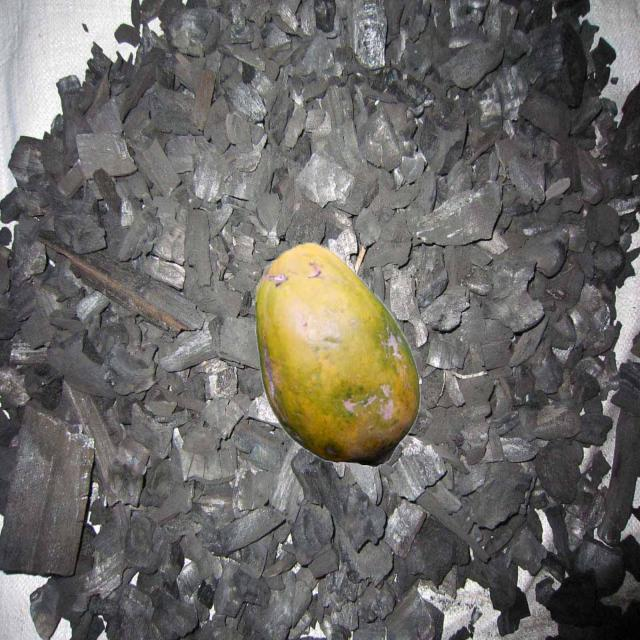Pepaya rippen: (249, 245, 418, 477)
